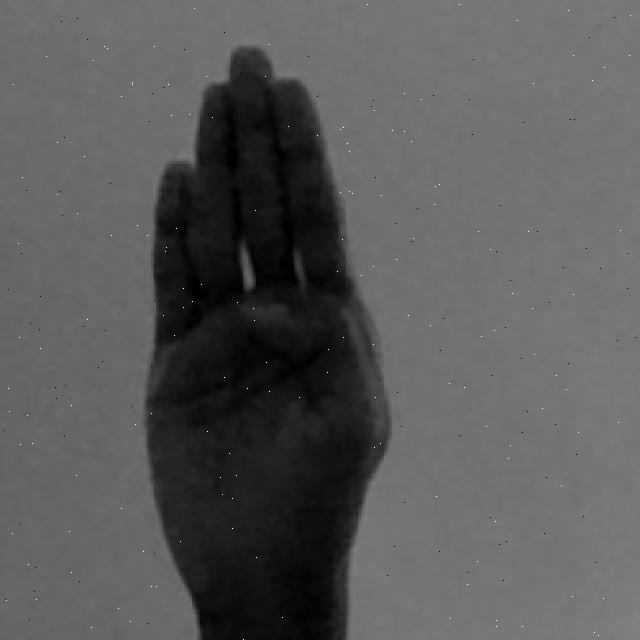B: (143, 41, 397, 640)
